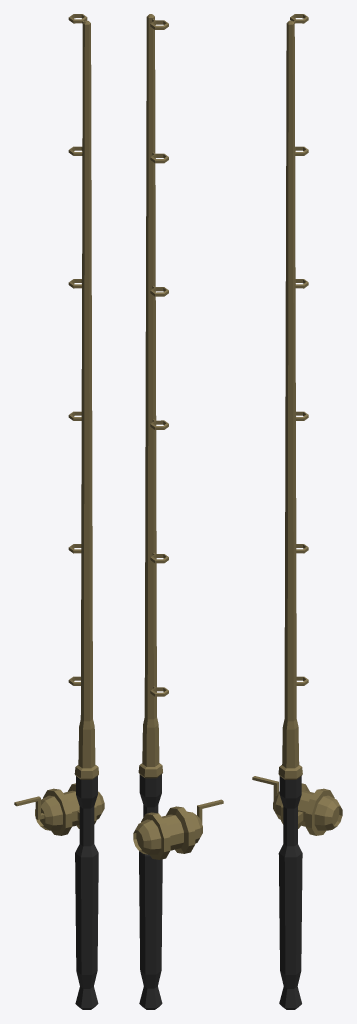
The model's file is Fishing Rod-9AOHhRPHE7.glb.
3 views of the same model, side by side, from view 1: azimuth 30°, elevation 25°; view 2: azimuth 210°, elevation 25°; view 3: azimuth 330°, elevation 25° (orthographic).
Visible parts, largest first — view 1: FishingRod_Lvl4; view 2: FishingRod_Lvl4; view 3: FishingRod_Lvl4.
Part boxes in pixels (x1,y1,x2,y2): FishingRod_Lvl4: (14, 14, 104, 1009); FishingRod_Lvl4: (133, 14, 223, 1009); FishingRod_Lvl4: (252, 14, 342, 1009).
Bounding box in the file's own units: 0.6565 × 7.38 × 0.4698.
